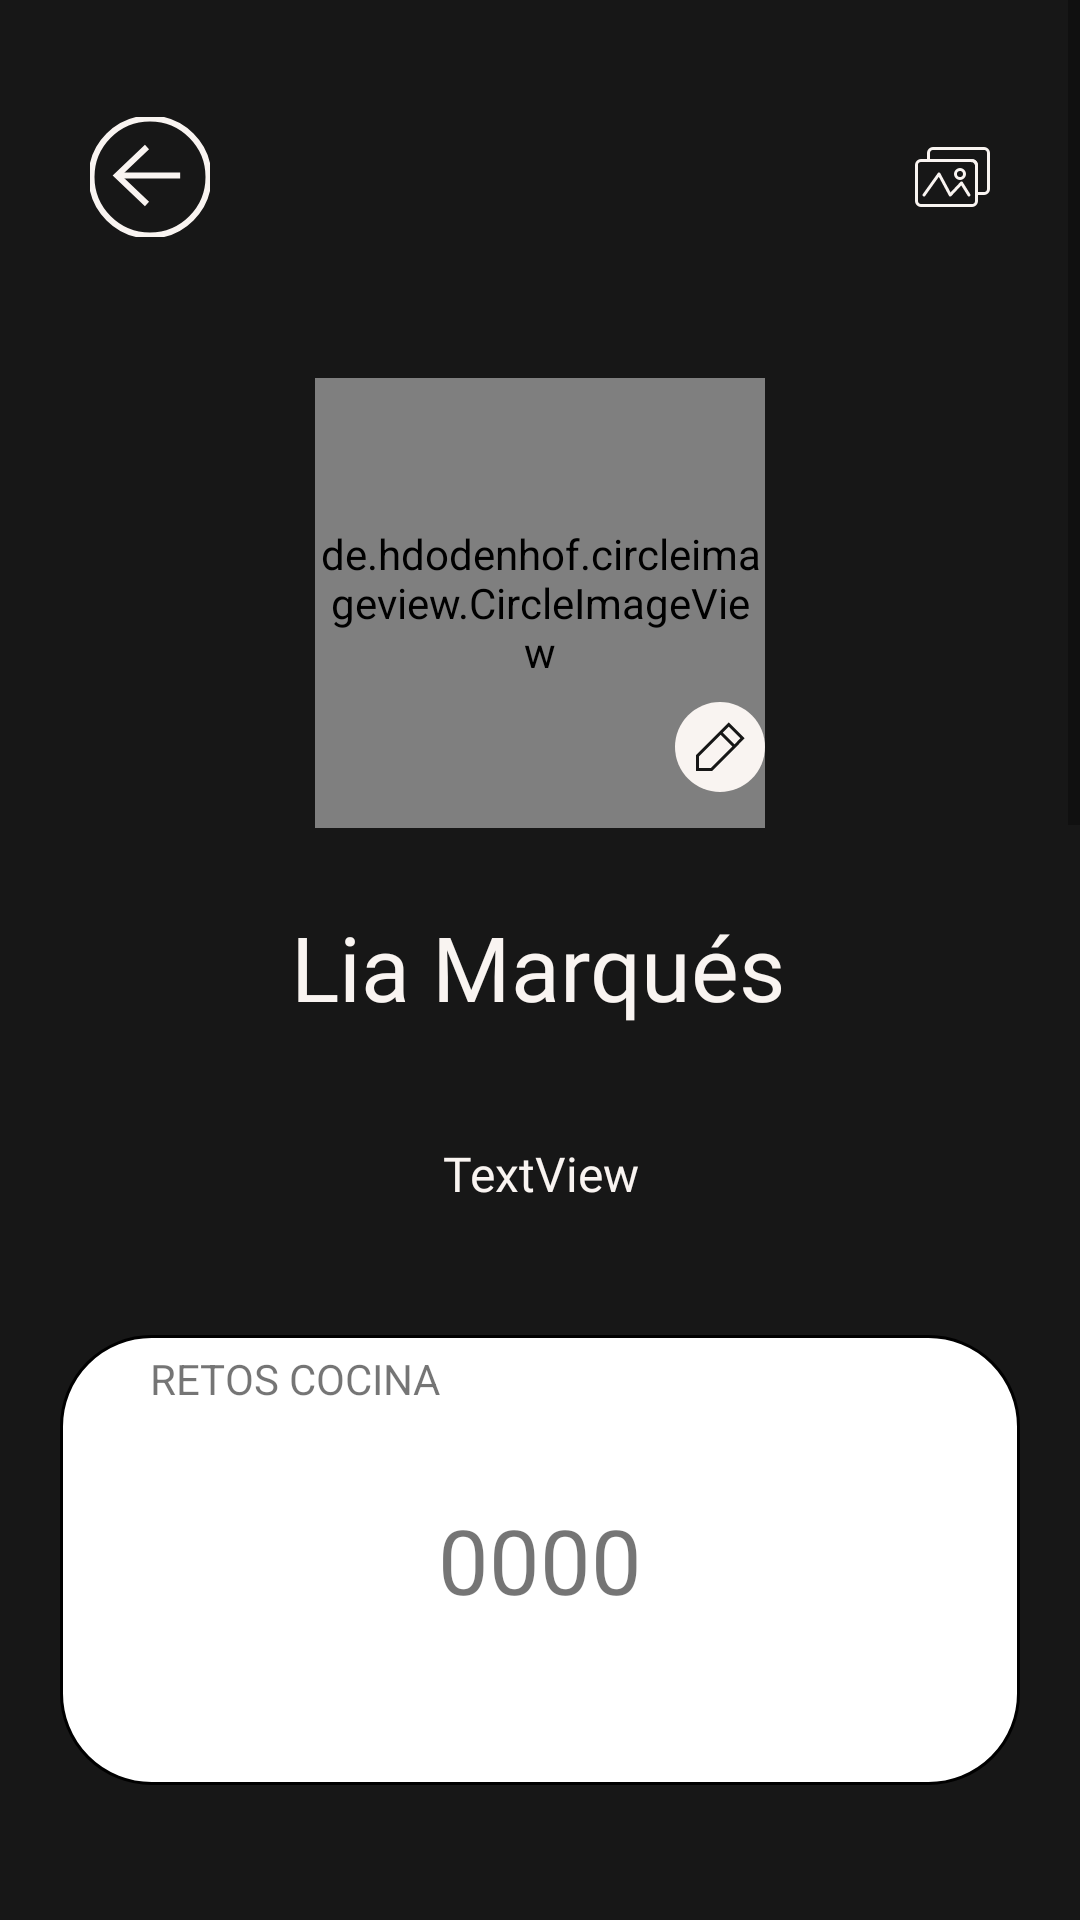

Screen size 1080x1920. Icon name, then its center in pixels as point (x, y):
editarround: point (720, 747)
flecharound: point (150, 177)
lbum: point (952, 177)
